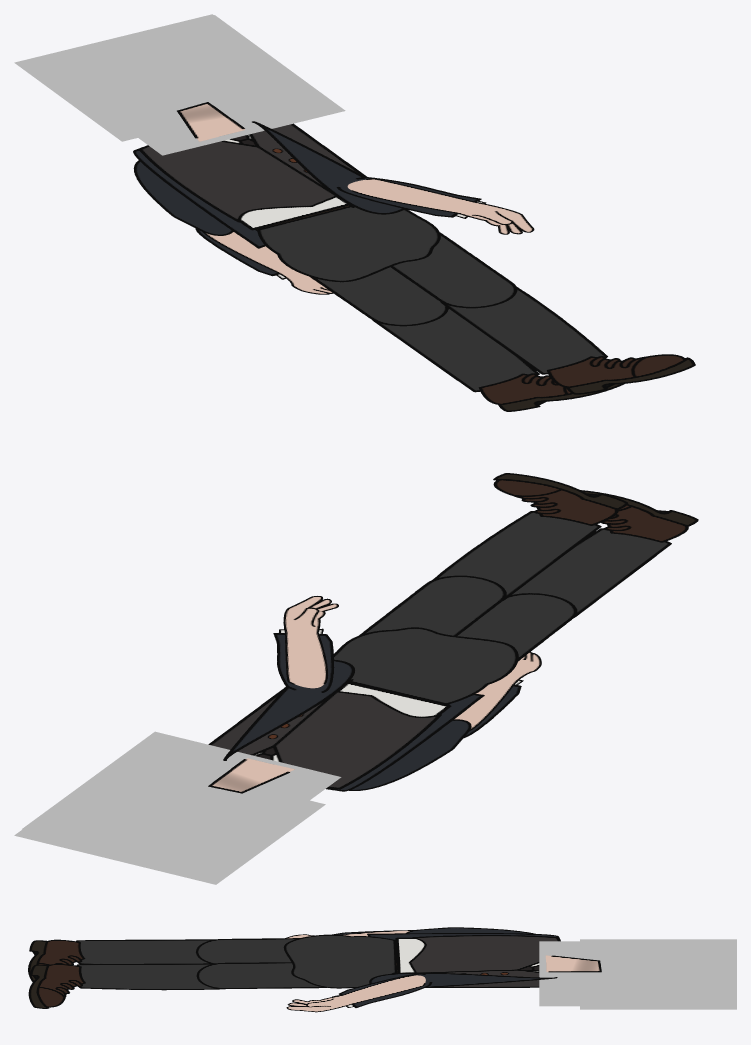
Rendered from MaleNPC_StitchPunk.fbx.
3 views of the same model, one above another, from view 1: azimuth 30°, elevation 25°; view 2: azimuth 150°, elevation 25°; view 3: azimuth 270°, elevation 25° (orthographic). The views are drawn at different scales.
Visible parts, largest first — view 1: BaseHead, Torso, Pelvis, RightLowerLeg, LeftLowerLeg, RightUpperLeg, LeftUpperLeg, RightFoot, RightHand, RightJacketInside, LeftFoot, LeftUpperArm (+5 smaller); view 2: BaseHead, Torso, Pelvis, RightLowerLeg, LeftLowerLeg, RightUpperLeg, LeftUpperLeg, RightFoot, RightHand, Hair, RightJacketInside, LeftFoot (+5 smaller); view 3: BaseHead, Torso, Pelvis, RightLowerLeg, LeftLowerLeg, RightUpperLeg, LeftUpperLeg, RightFoot, RightHand, Hair, RightJacketInside, LeftFoot (+5 smaller).
Boxes of the visible parts, <box> form: BaseHead: <box>31,15,345,155</box>; Torso: <box>138,123,366,230</box>; Pelvis: <box>257,206,440,282</box>; RightLowerLeg: <box>440,287,607,374</box>; LeftLowerLeg: <box>372,309,539,392</box>; RightUpperLeg: <box>391,232,517,308</box>; LeftUpperLeg: <box>309,267,448,326</box>; RightFoot: <box>547,354,695,394</box>; RightHand: <box>347,178,534,234</box>; RightJacketInside: <box>252,121,404,214</box>; LeftFoot: <box>478,373,624,411</box>; LeftUpperArm: <box>133,160,233,235</box>; BaseHead: <box>22,731,341,874</box>; Torso: <box>208,679,451,789</box>; Pelvis: <box>333,627,518,704</box>; RightLowerLeg: <box>433,511,601,601</box>; LeftLowerLeg: <box>512,528,671,617</box>; RightUpperLeg: <box>359,575,506,635</box>; LeftUpperLeg: <box>457,593,577,661</box>; RightFoot: <box>493,473,628,525</box>; RightHand: <box>283,596,338,688</box>; Hair: <box>14,800,325,884</box>; RightJacketInside: <box>223,659,354,760</box>; LeftFoot: <box>580,490,698,542</box>; BaseHead: <box>539,941,729,1006</box>; Torso: <box>392,935,559,987</box>; Pelvis: <box>283,934,396,988</box>; RightLowerLeg: <box>76,963,225,990</box>; LeftLowerLeg: <box>76,939,214,964</box>; RightUpperLeg: <box>196,962,326,988</box>; LeftUpperLeg: <box>196,938,299,963</box>; RightFoot: <box>28,964,85,1008</box>; RightHand: <box>286,975,425,1012</box>; Hair: <box>580,939,736,1009</box>; RightJacketInside: <box>369,972,557,987</box>; LeftFoot: <box>28,939,85,981</box>.
Size of the model in its own units: 95.99 by 2.78 by 239.
